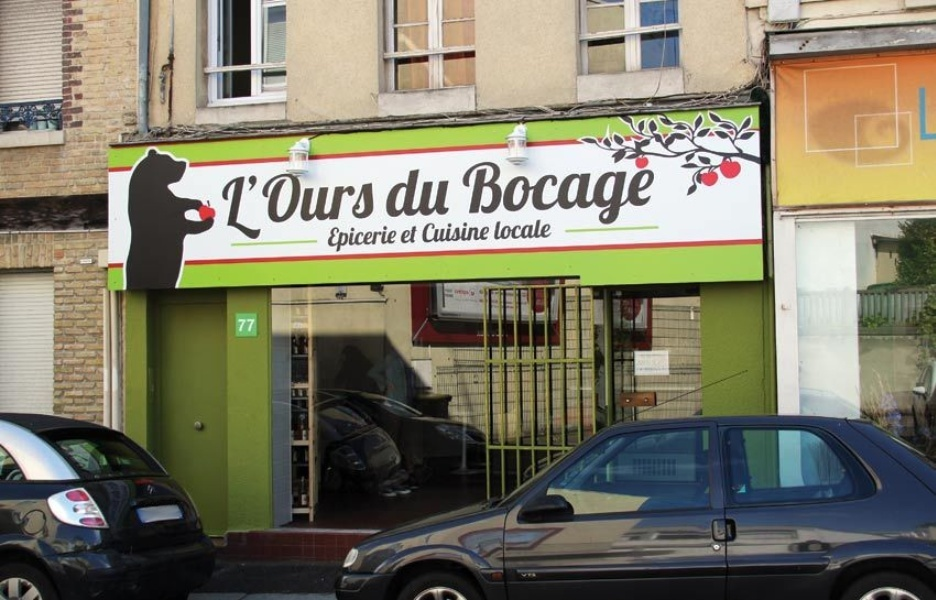text: (641, 160, 657, 227), (225, 171, 240, 242), (241, 171, 256, 242), (257, 171, 272, 242), (273, 171, 288, 242), (289, 171, 304, 242), (305, 171, 320, 242), (321, 171, 336, 242), (337, 171, 352, 242), (353, 171, 368, 242), (465, 160, 480, 227), (481, 160, 496, 227), (497, 160, 512, 227), (513, 160, 528, 227), (529, 160, 544, 227), (545, 160, 560, 227), (561, 160, 576, 227), (577, 160, 592, 227), (593, 160, 608, 227), (609, 160, 624, 227), (625, 160, 640, 227), (401, 169, 416, 218), (417, 169, 432, 218), (433, 169, 448, 218), (918, 87, 928, 141), (389, 169, 400, 218), (337, 225, 352, 254), (353, 225, 368, 254), (369, 225, 384, 254), (369, 171, 375, 242), (385, 225, 397, 254), (497, 218, 512, 241), (513, 218, 528, 241), (529, 218, 544, 241), (929, 87, 935, 141), (433, 222, 448, 243), (449, 222, 464, 243), (465, 222, 480, 243), (220, 171, 224, 242), (402, 225, 416, 244), (328, 225, 336, 254), (481, 222, 491, 243), (449, 169, 453, 218), (423, 222, 432, 243), (241, 319, 255, 332), (545, 218, 552, 241), (513, 291, 529, 297), (481, 291, 496, 297), (497, 291, 512, 297), (463, 160, 464, 227), (533, 292, 544, 298), (481, 300, 496, 304), (497, 300, 512, 304), (513, 300, 528, 304), (497, 305, 512, 309), (535, 299, 544, 305), (625, 309, 634, 314), (625, 300, 633, 305), (237, 319, 240, 332), (455, 290, 464, 294), (520, 573, 528, 577), (529, 573, 537, 577), (641, 368, 656, 370), (641, 354, 656, 356), (489, 305, 496, 309), (513, 305, 519, 309), (657, 368, 668, 370), (444, 293, 448, 298), (449, 293, 453, 298), (417, 225, 418, 244), (465, 290, 469, 294), (444, 289, 448, 293), (449, 289, 453, 293), (657, 354, 665, 356), (545, 292, 547, 298), (478, 300, 480, 304), (545, 299, 546, 305), (637, 368, 640, 370), (623, 300, 624, 305), (638, 354, 640, 356)
